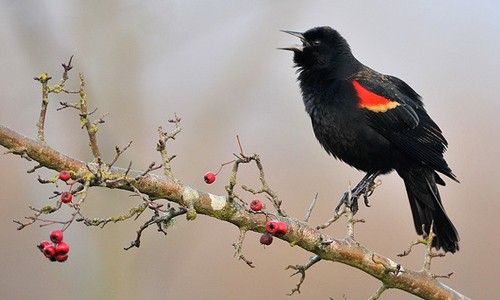bird: (291, 26, 444, 211)
